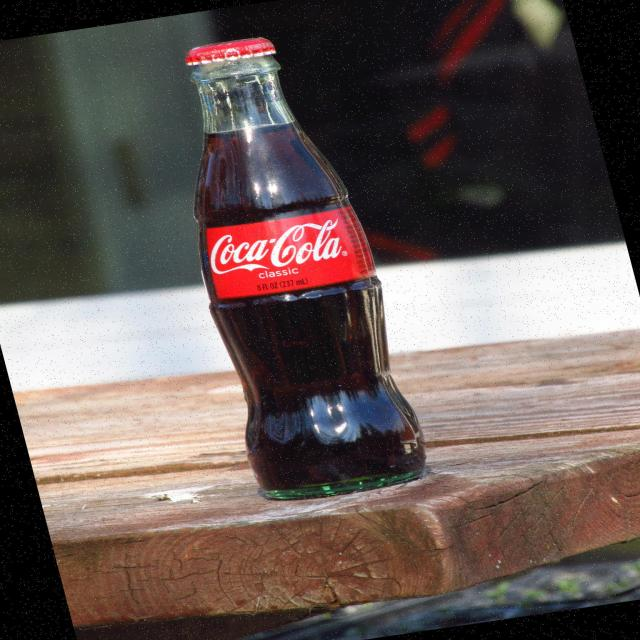coca-cola: (133, 18, 447, 511)
